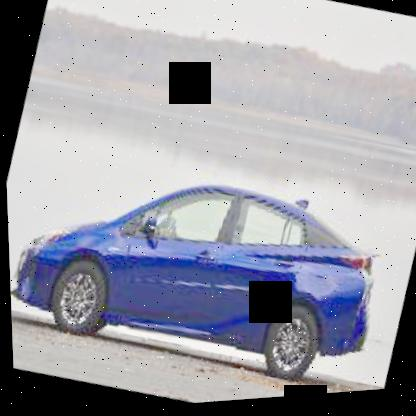not_emergency: (4, 127, 405, 415)
